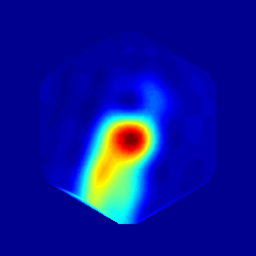ship: (123, 83, 151, 122)
wave: (92, 111, 145, 194)
